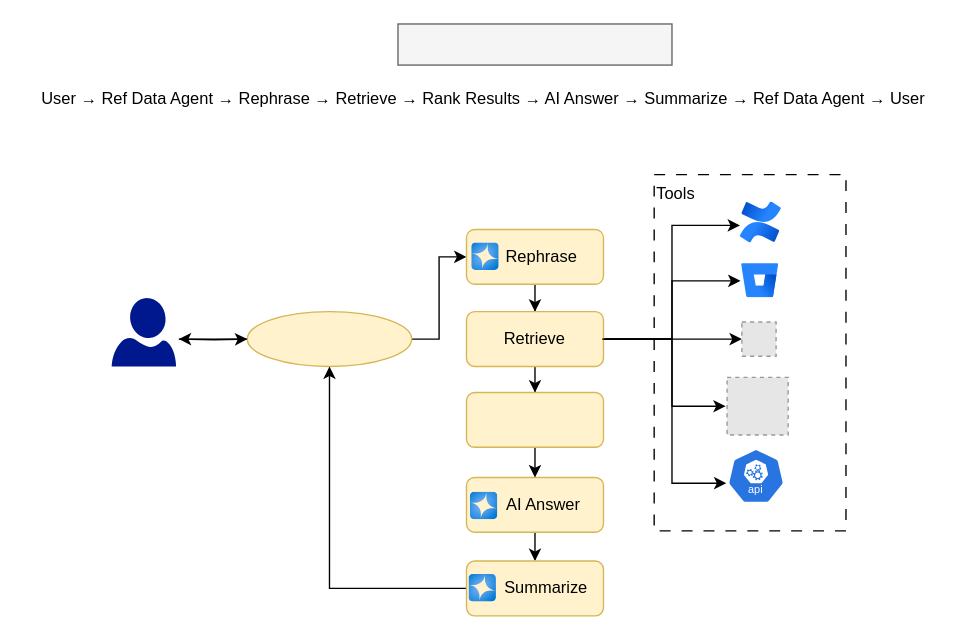
Some shapes in this 964 by 640 pixel diagram are drawn without their labels. Grey dashed boxes stand in for pictures. The centre of each missing label's shape, as x and y in pixels:
Agentic AI Flow Using LangGraph: (x=534, y=44)
Rank Results: (x=534, y=419)
Ref Data Agent: (x=329, y=338)
